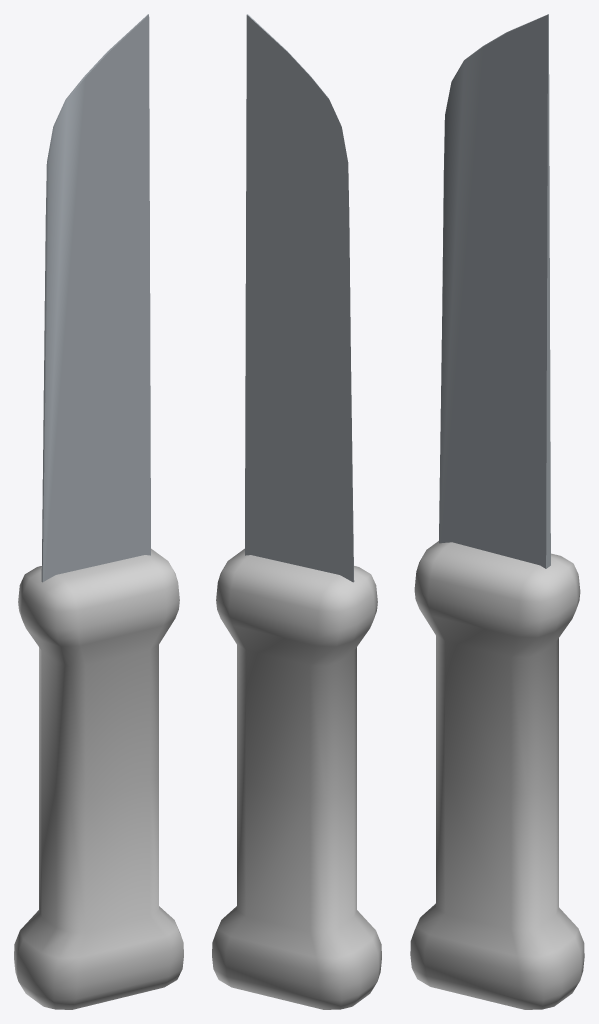
File: Knife-1.fbx
The picture shows the model from 3 angles, left to right: view 1: azimuth 30°, elevation 25°; view 2: azimuth 150°, elevation 25°; view 3: azimuth 330°, elevation 25°; orthographic projection. The views are drawn at different scales.
Visible parts, largest first — view 1: Knife-1; view 2: Knife-1; view 3: Knife-1.
Part boxes in pixels (box(x1,y1,x2,y2)): Knife-1: box(14, 14, 183, 1009); Knife-1: box(212, 14, 381, 1009); Knife-1: box(410, 14, 584, 1009).
Size of the model in its own units: 0.0478 by 0.304 by 0.0285.
